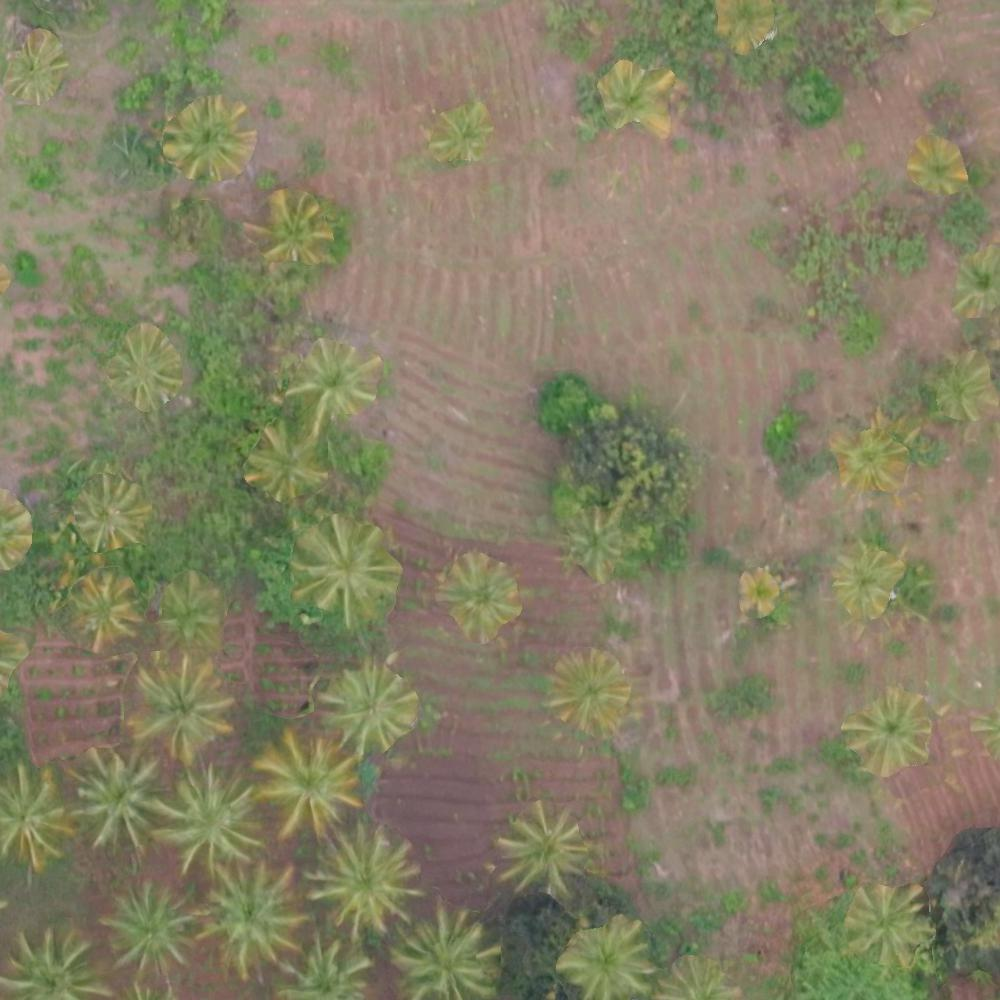Palm: (288, 519, 396, 622), (201, 863, 303, 971), (315, 826, 419, 929), (252, 735, 357, 831), (157, 772, 261, 868), (394, 904, 495, 1000), (129, 656, 230, 752), (70, 748, 164, 847), (104, 886, 195, 974), (1, 763, 74, 872), (1, 930, 107, 1000), (845, 693, 934, 775), (499, 808, 585, 892), (438, 556, 519, 645), (324, 663, 410, 746), (170, 100, 253, 178), (848, 883, 925, 967), (277, 934, 374, 1000), (291, 340, 374, 417), (552, 648, 630, 728), (563, 925, 647, 993), (251, 195, 330, 267), (111, 325, 182, 405), (67, 573, 139, 650), (157, 574, 228, 647), (833, 414, 909, 482), (75, 476, 145, 545), (832, 545, 902, 613), (245, 428, 319, 492), (4, 35, 63, 97), (905, 141, 967, 198), (433, 108, 495, 158), (733, 569, 781, 615)
